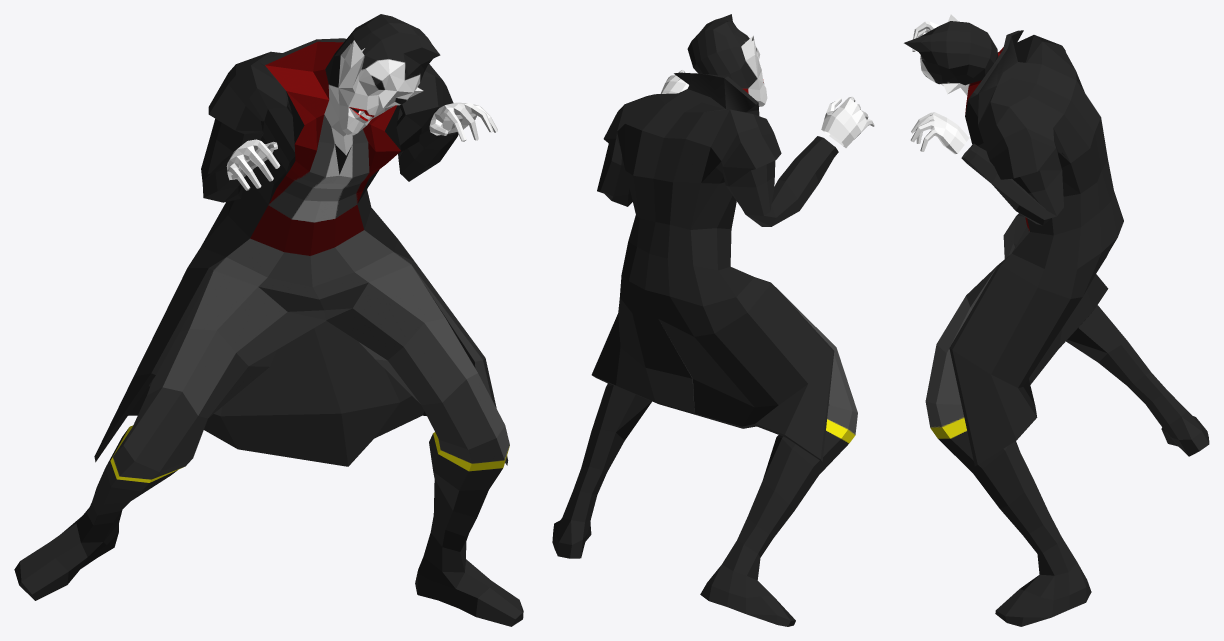
Rendered from VampireAttack(48).obj.
The picture shows the model from 3 angles, left to right: view 1: azimuth 30°, elevation 25°; view 2: azimuth 150°, elevation 25°; view 3: azimuth 270°, elevation 25°; orthographic projection. The views are drawn at different scales.
Visible parts, largest first — view 1: Plane002; view 2: Plane002; view 3: Plane002.
Part boxes in pixels (left/top/right/bottom): Plane002: left=14, top=14, right=523, bottom=626; Plane002: left=552, top=14, right=874, bottom=626; Plane002: left=904, top=14, right=1209, bottom=626.
Bounding box in the file's own units: 176 × 276 × 143.
